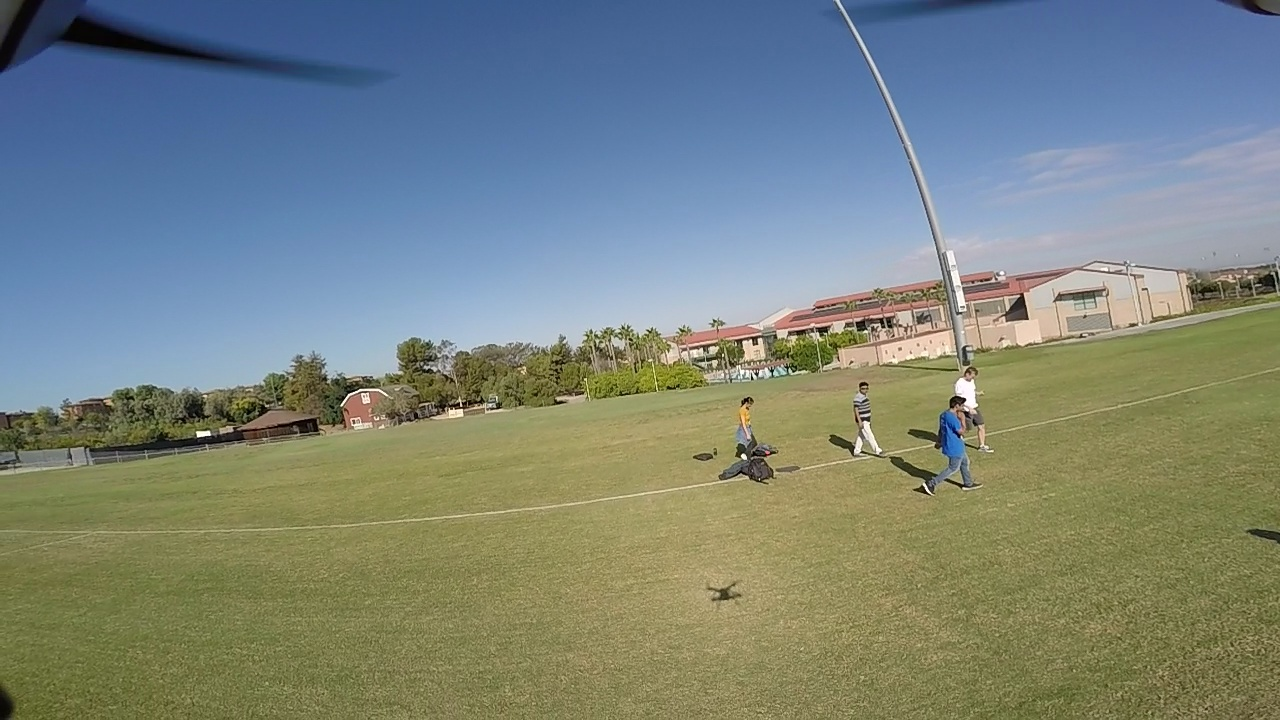person: (919, 399, 980, 490), (951, 356, 989, 440), (729, 388, 768, 463), (849, 375, 883, 456)
